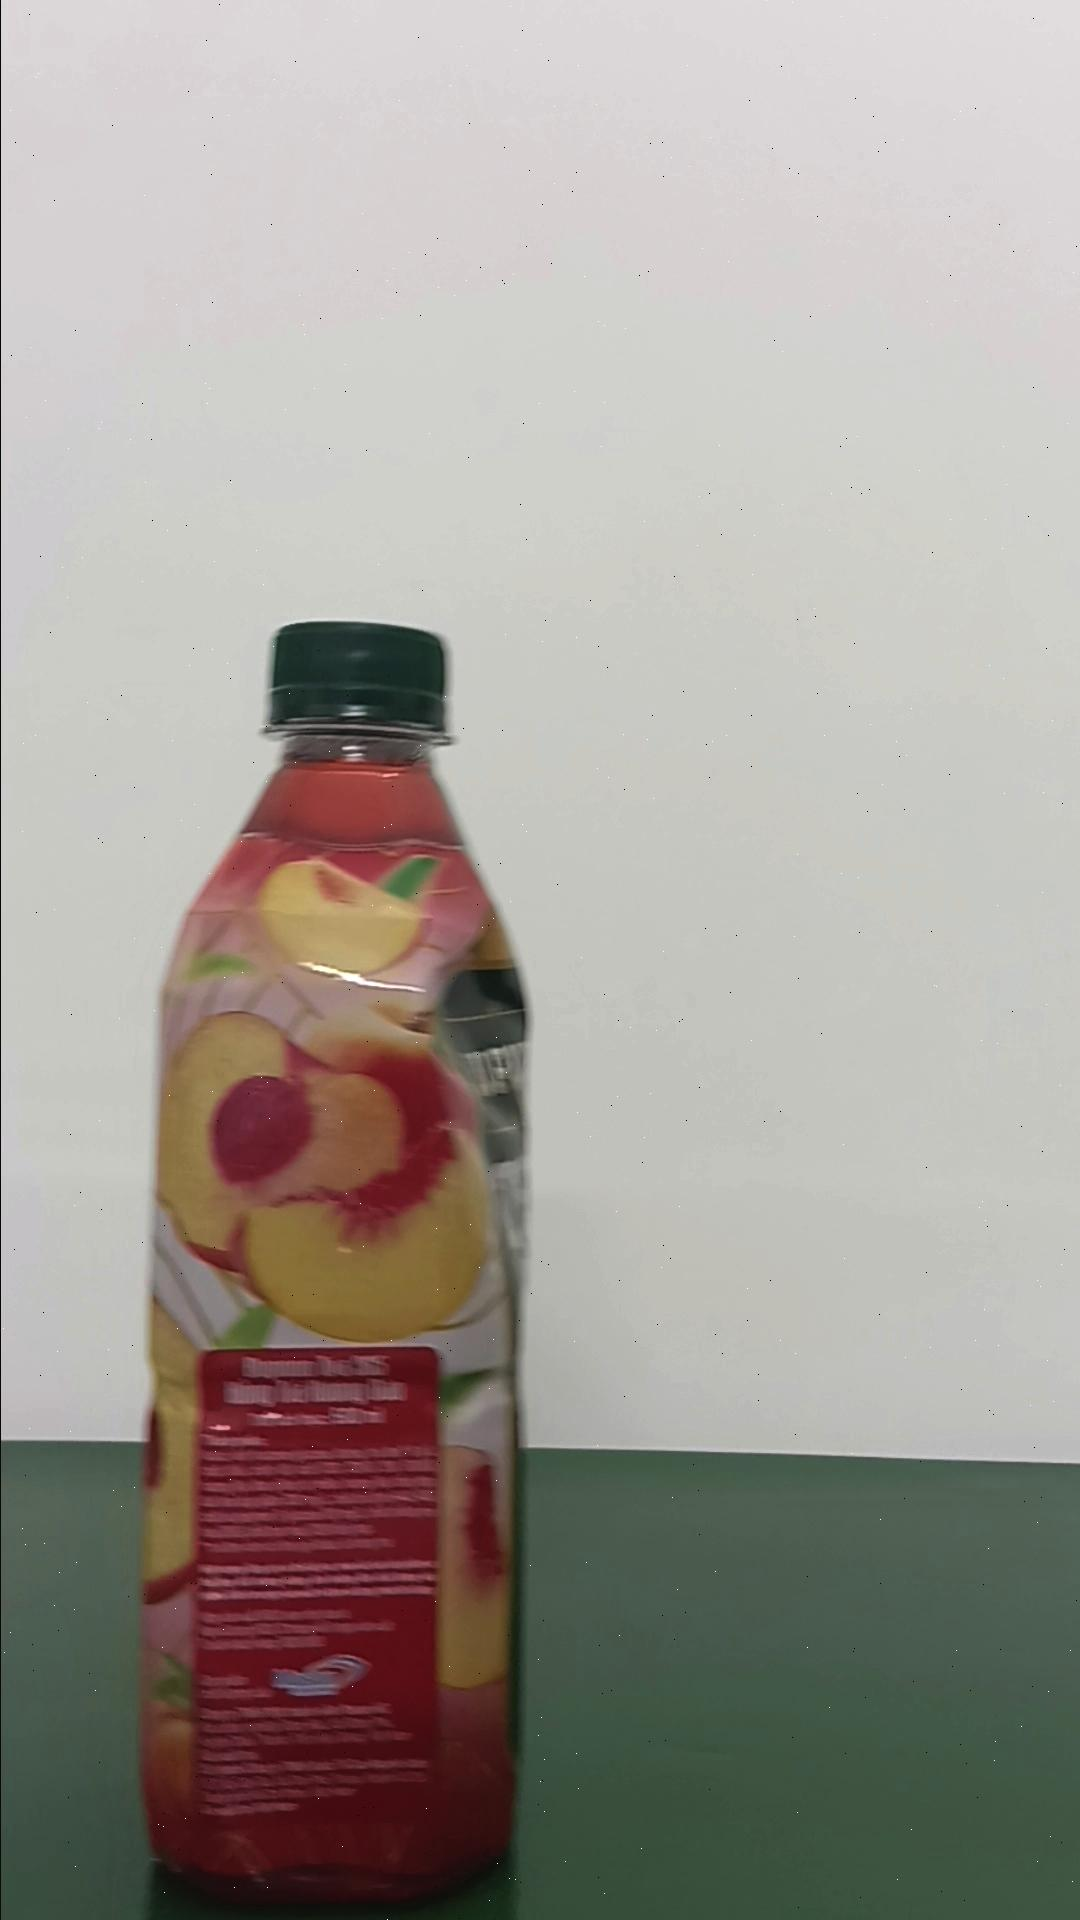loi meo sp: (136, 618, 531, 1902)
